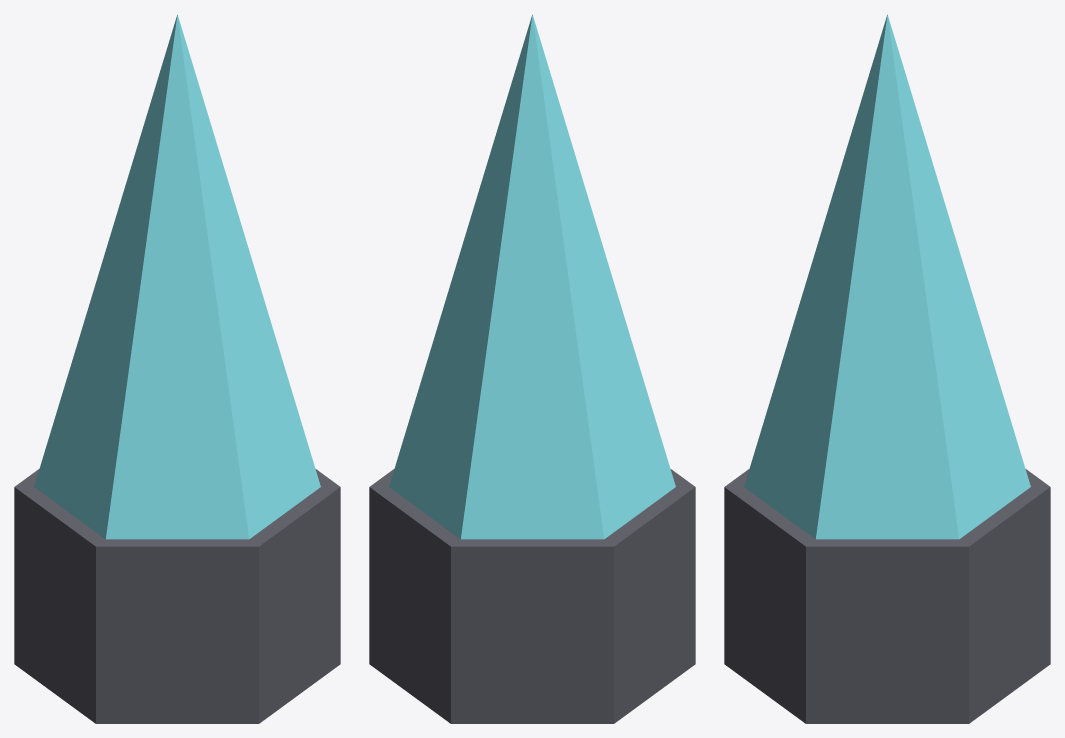
Rendered from crystal_lamp.glb.
3 views of the same model, side by side, from view 1: azimuth 30°, elevation 25°; view 2: azimuth 150°, elevation 25°; view 3: azimuth 270°, elevation 25° (orthographic).
Parts seen in each view (by area): view 1: crystal_lamp; view 2: crystal_lamp; view 3: crystal_lamp.
Boxes of the visible parts, <box> form: crystal_lamp: <box>14,14,340,723</box>; crystal_lamp: <box>369,14,695,723</box>; crystal_lamp: <box>724,14,1050,723</box>.
Bounding box in the file's own units: 0.433 × 1.1 × 0.5.
